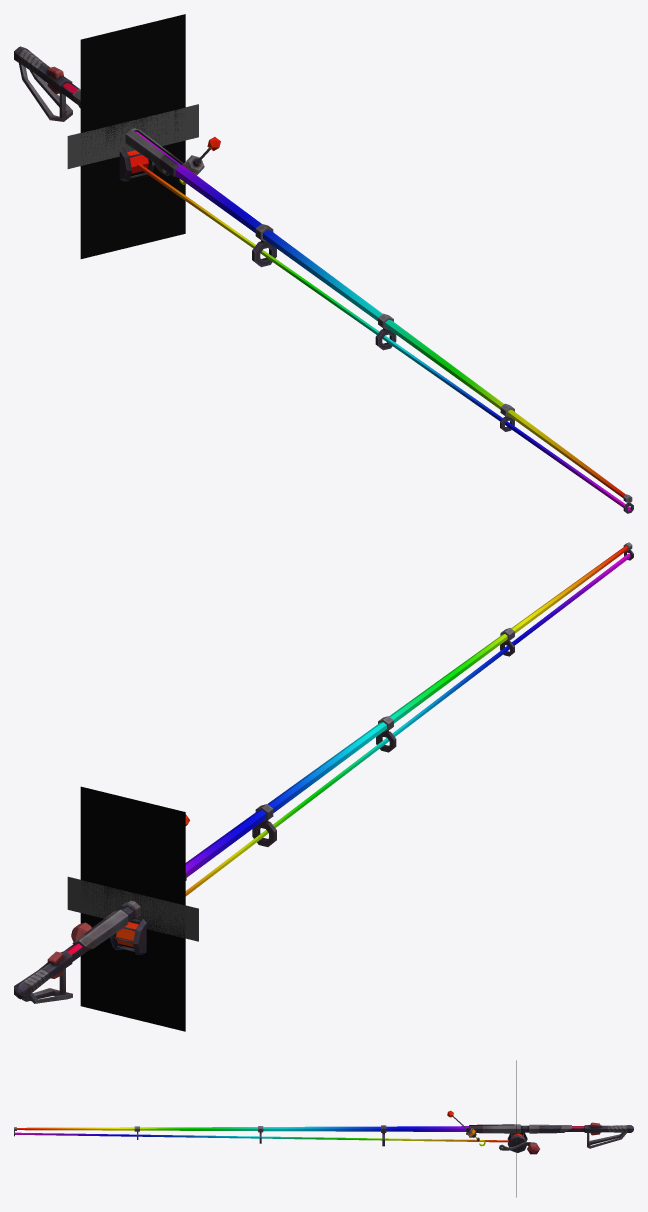
Rendered from item_glowing_fishing_rod.glb.
3 renders of one model, top to bottom at view 1: azimuth 30°, elevation 25°; view 2: azimuth 150°, elevation 25°; view 3: azimuth 270°, elevation 25°, orthographic. The views are drawn at different scales.
Parts seen in each view (by area): view 1: Cube (×3), Glowing_Fishingrod_submesh_1, Glowing_Fishingrod_submesh_0; view 2: Cube (×3), Glowing_Fishingrod_submesh_1, Glowing_Fishingrod_submesh_0; view 3: Glowing_Fishingrod_submesh_1, Glowing_Fishingrod_submesh_0, Glowing_Reel.
Part boxes in pixels (bbox=[...]): Cube (×3): bbox=[67, 14, 198, 258]; Glowing_Fishingrod_submesh_1: bbox=[63, 82, 630, 510]; Glowing_Fishingrod_submesh_0: bbox=[14, 46, 633, 513]; Cube (×3): bbox=[67, 786, 198, 1031]; Glowing_Fishingrod_submesh_1: bbox=[67, 546, 630, 954]; Glowing_Fishingrod_submesh_0: bbox=[14, 542, 633, 1003]; Glowing_Fishingrod_submesh_1: bbox=[15, 1126, 584, 1142]; Glowing_Fishingrod_submesh_0: bbox=[14, 1124, 633, 1152]; Glowing_Reel: bbox=[499, 1142, 539, 1154].
Size of the model in its own units: 0.25 by 0.4 by 2.02.
4 materials, 2 textured.
